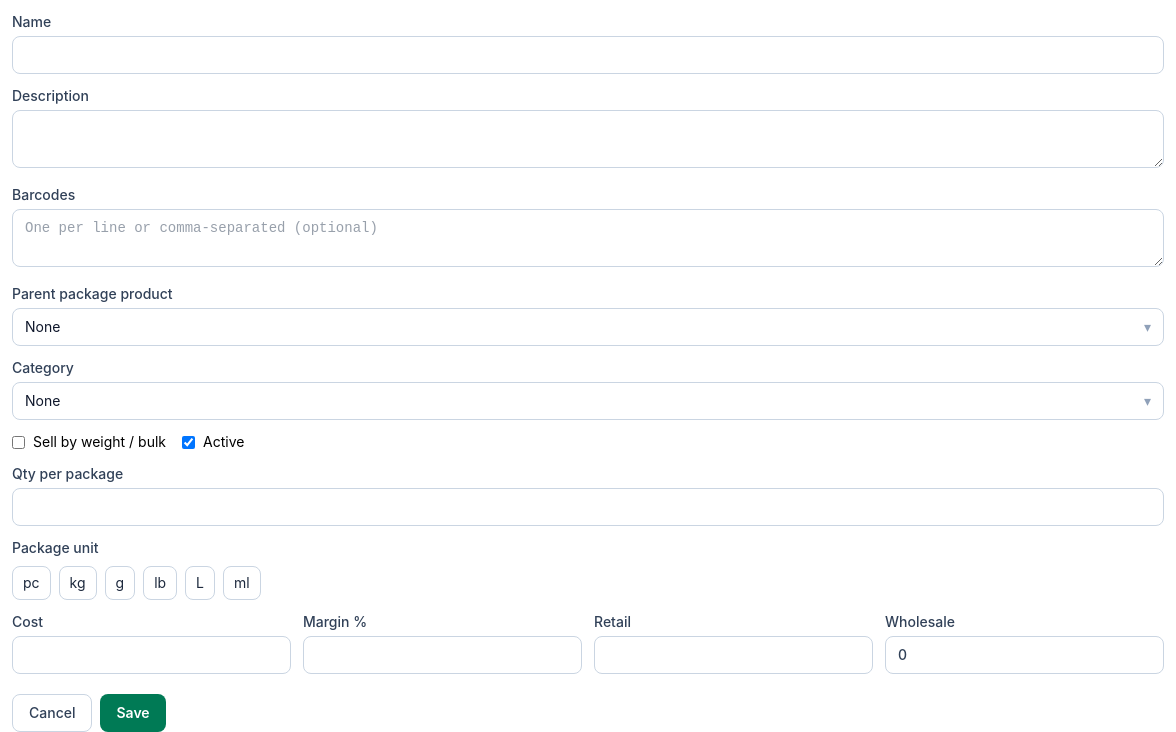
Test: ProductEditorForm Feature 076 › fills margin from category and retail from cost
Click the button with test id "product-category": (43, 400) [12,382,1164,420]
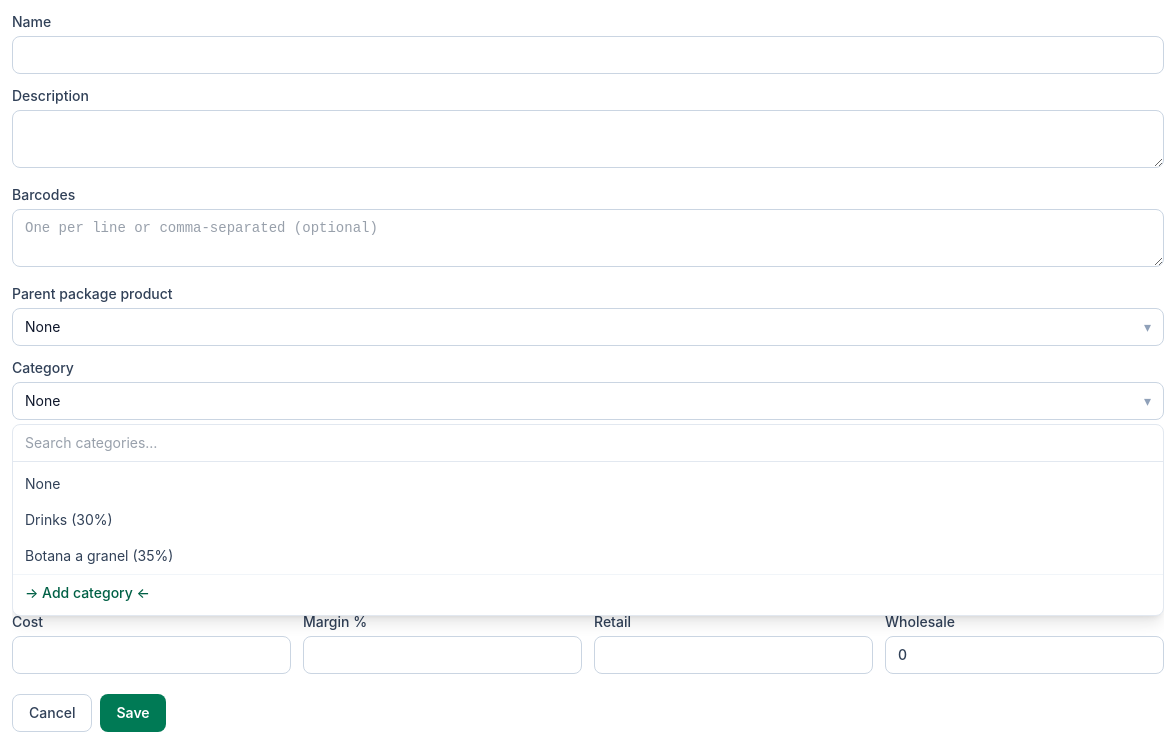
Click the button "Drinks (30%)": (69, 520) [13,502,1163,538]
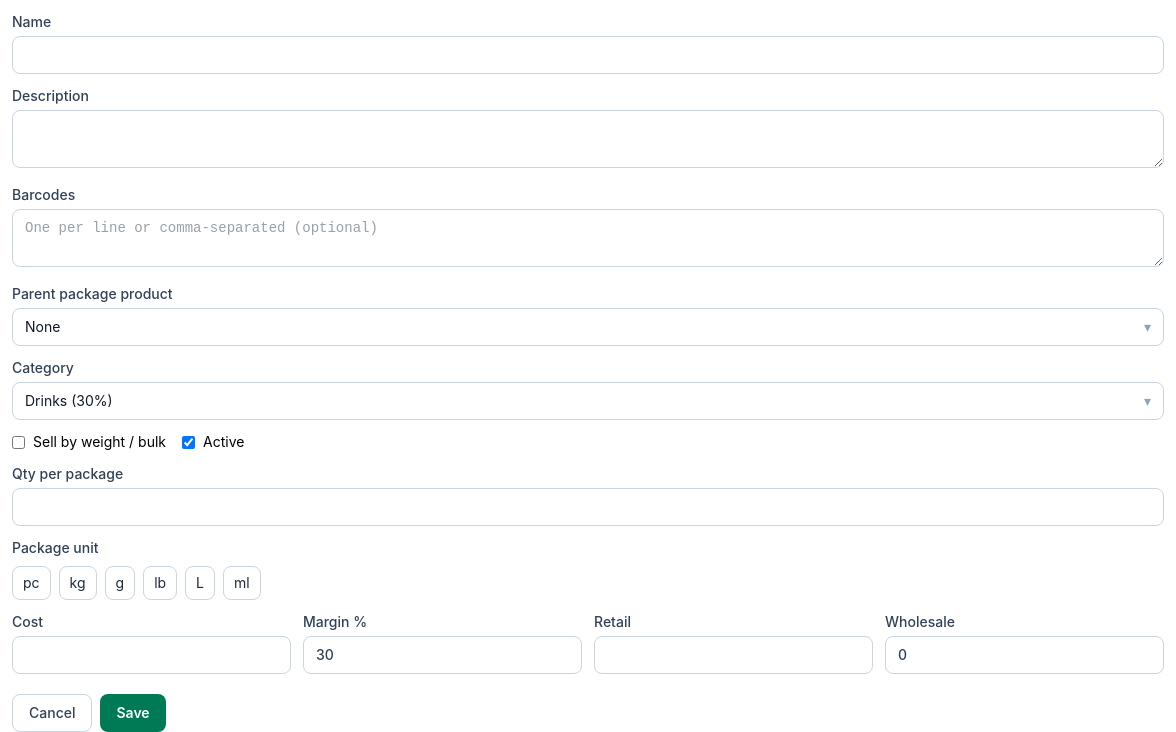
Expected: the field with test id "product-margin" holds "30", [303,636,582,674]
In the field with test id "product-cost": (152, 655) [12,636,291,674], type "70"
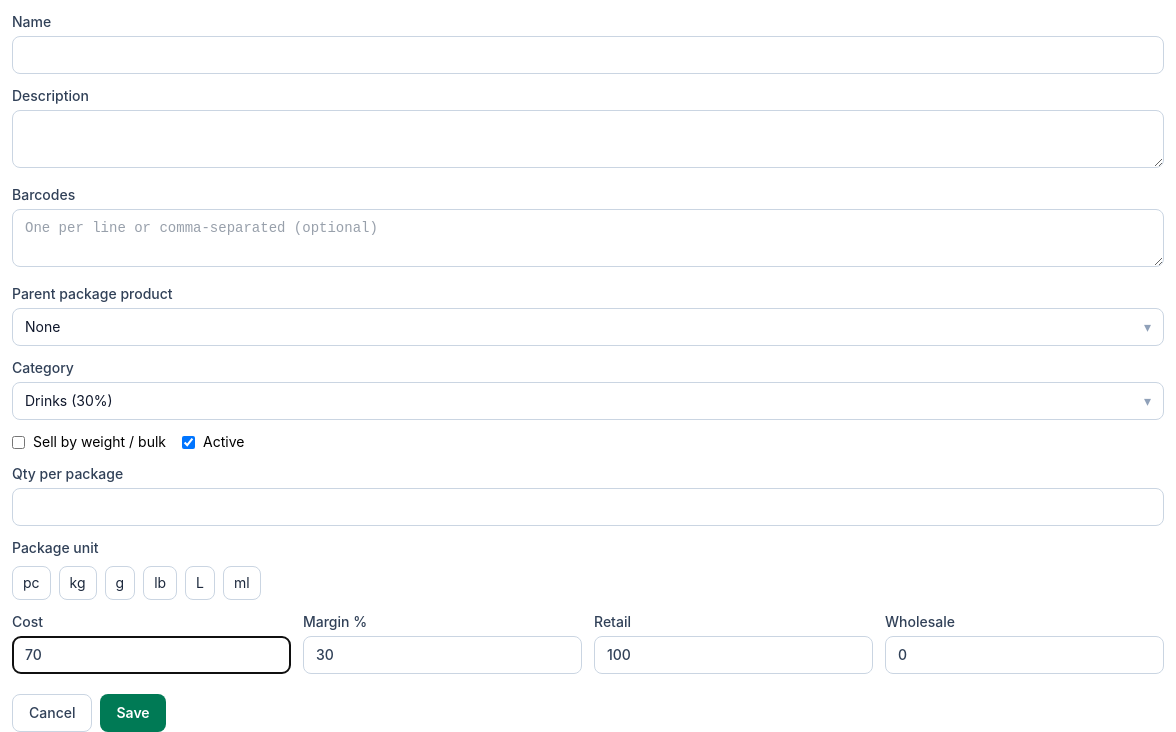
Expected: the field with test id "product-retail" holds "100", [594,636,873,674]
